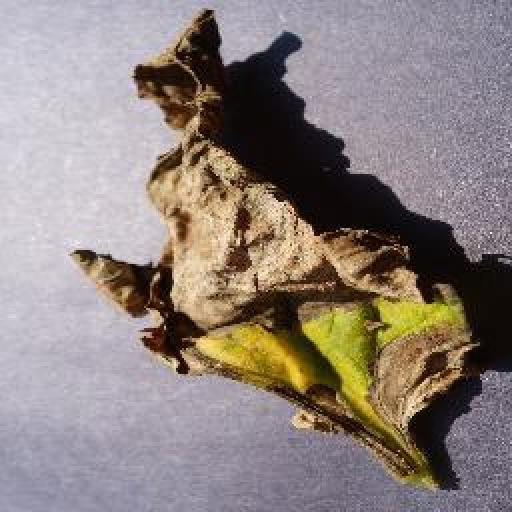disease_tomato: (73, 0, 480, 495)
